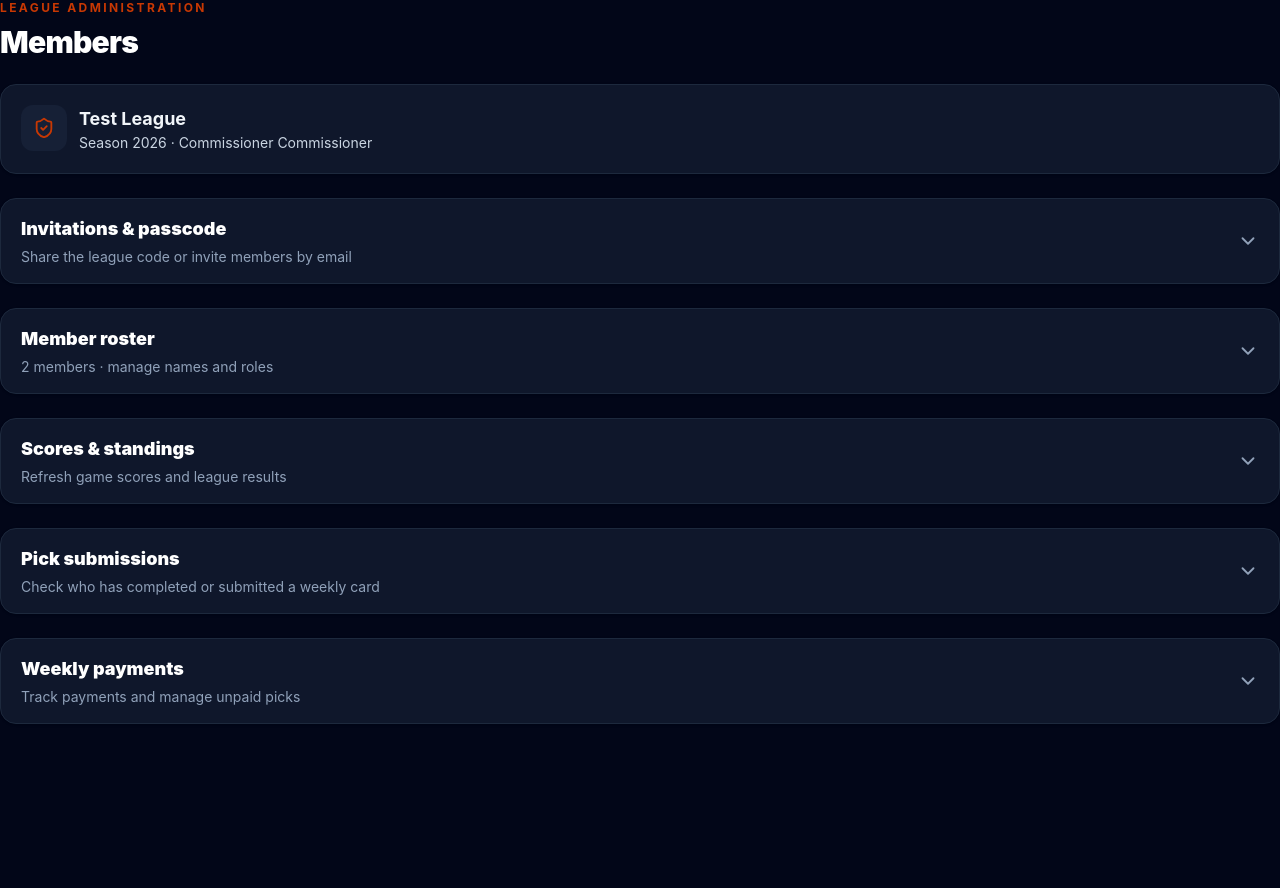
LeagueSettingsPage › shows an error when member removal fails
The width and height of the screenshot is (1280, 888).
Click the button "Member roster 2 members · manage names and roles".
click(88, 338)  # box x1=1 y1=309 x2=1279 y2=393
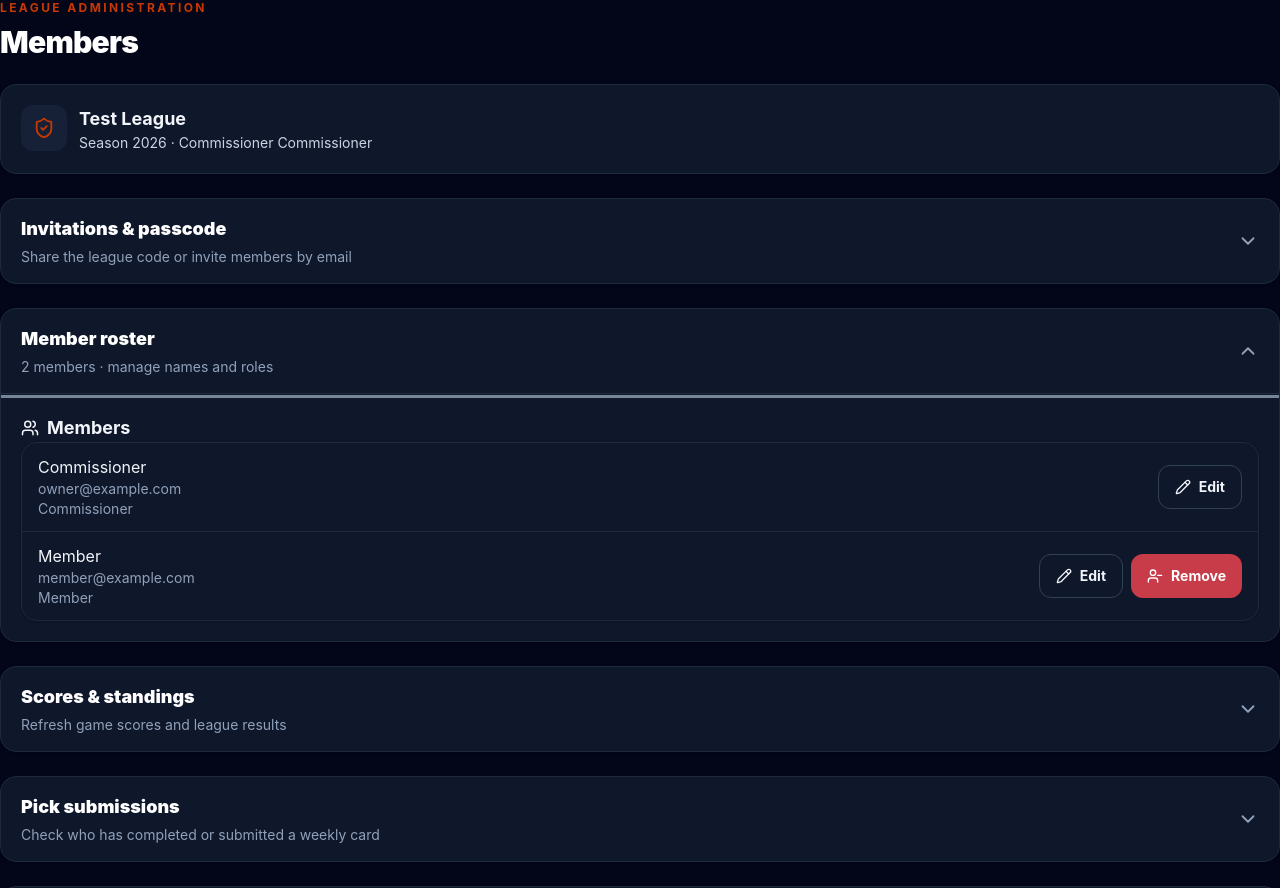
expect the text "member@example.com" is shown: met, box x1=38 y1=568 x2=195 y2=588
Click the button with aria-label "Remove Member".
click(1186, 576)  # box x1=1131 y1=554 x2=1242 y2=598
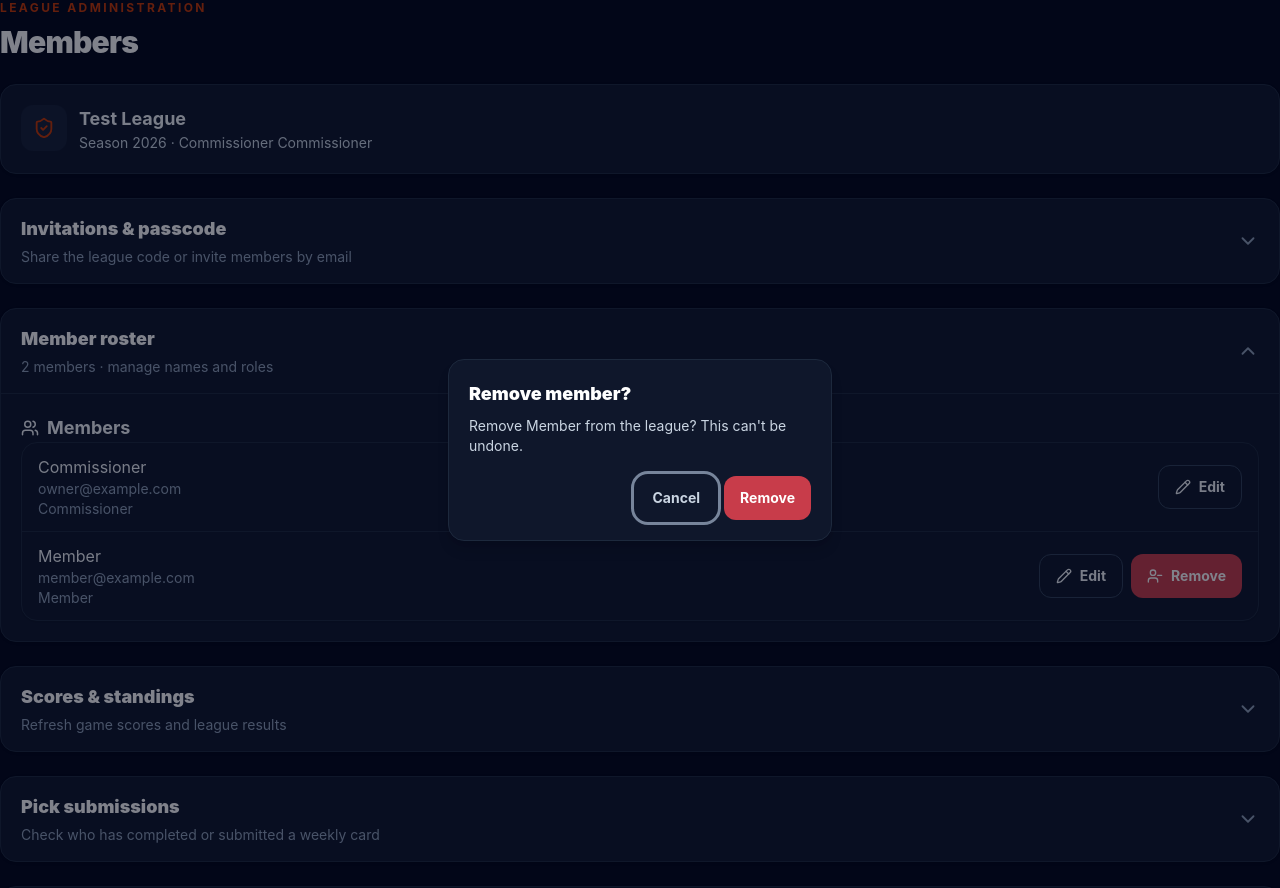
Click the button "Remove".
click(768, 498)  # box x1=724 y1=476 x2=811 y2=520
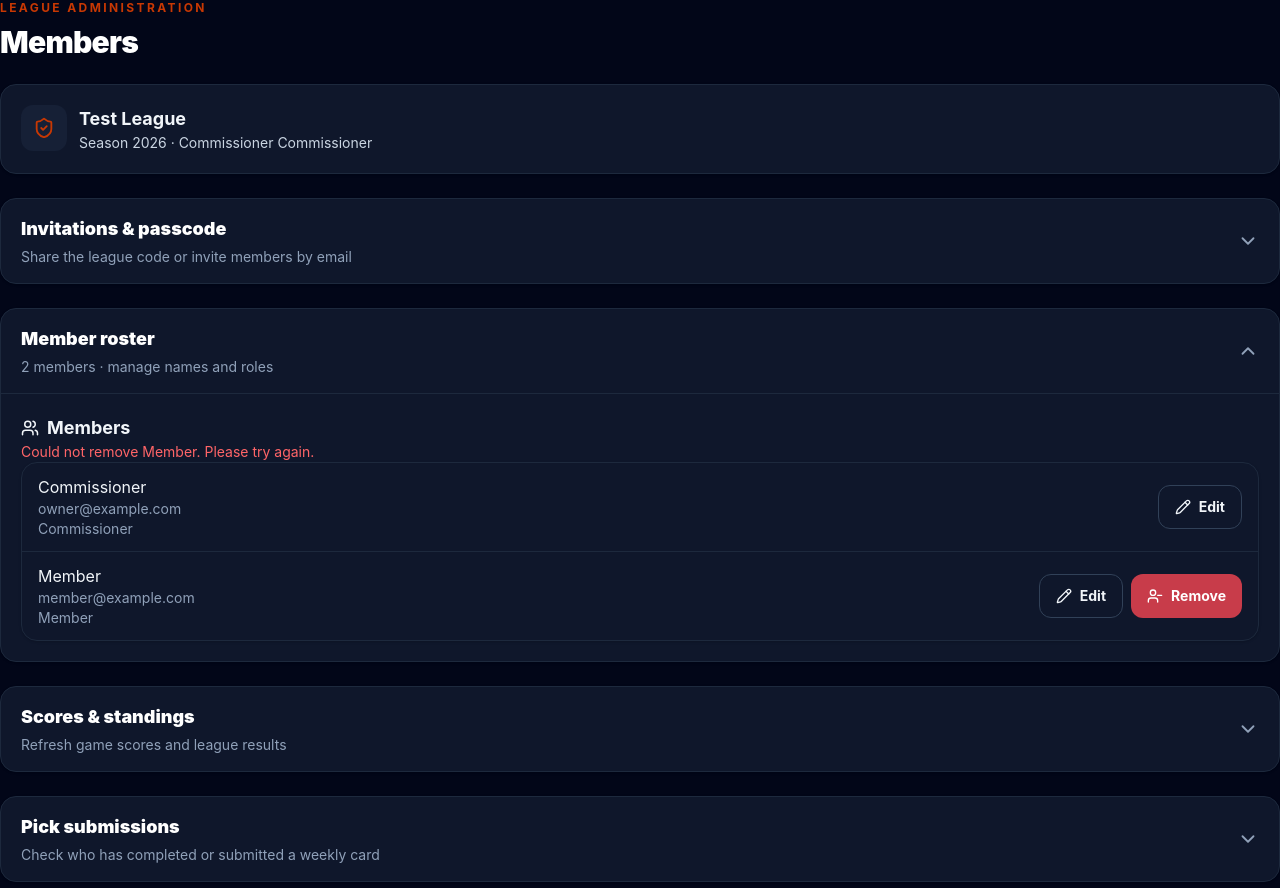
expect the text "Could not remove Member. Please try again." is shown: met, box x1=21 y1=443 x2=314 y2=460
